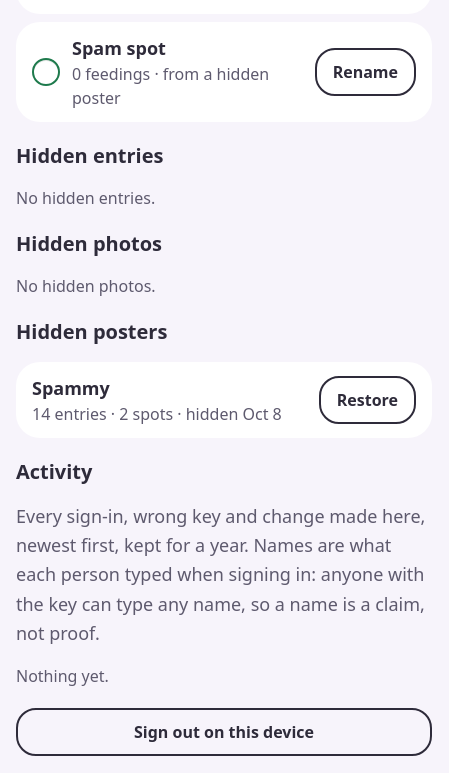
it: AdminPage — renaming a place › reloads the places after restoring a poster, so the mark goes
(page scrolled)
Click the button "Restore" at (367, 400), box [319,376,416,424]
(page scrolled)
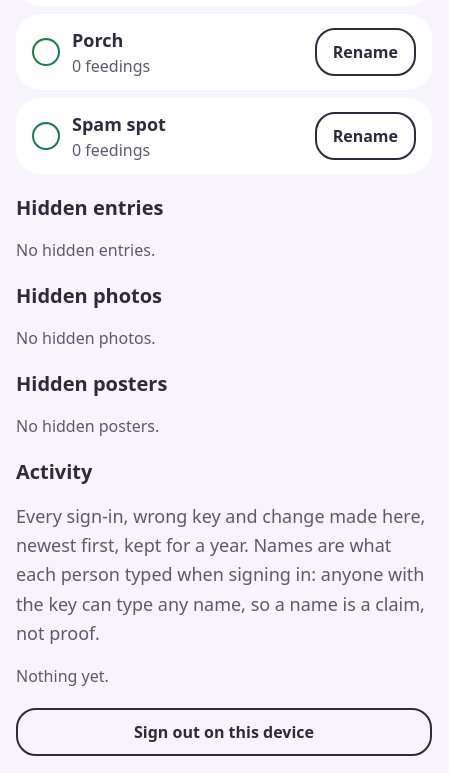
Expected: the text "from a hidden poster" is gone
